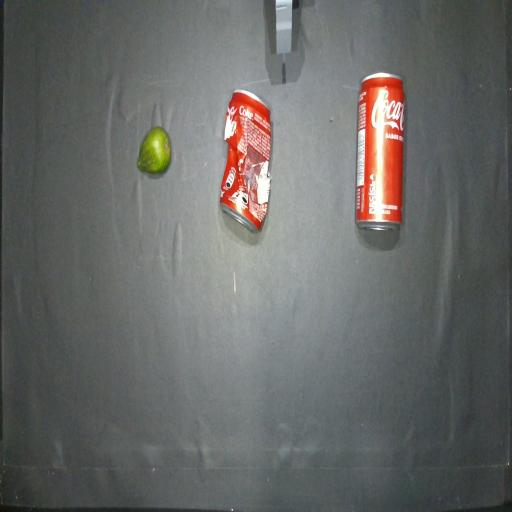higo: (138, 127, 171, 173)
lata: (355, 73, 404, 229)
lata_defectuoso: (220, 89, 271, 231)
